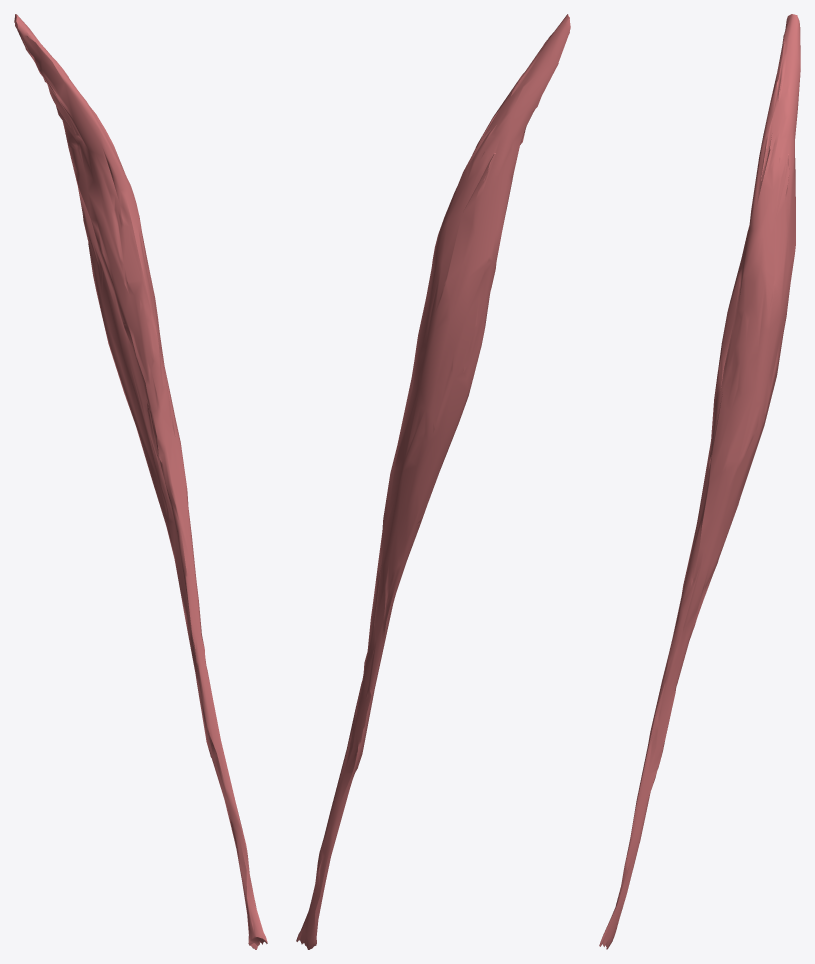
3 renders of one model, left to right at view 1: azimuth 30°, elevation 25°; view 2: azimuth 210°, elevation 25°; view 3: azimuth 270°, elevation 25°, orthographic. The views are drawn at different scales.
Visible parts, largest first — view 1: FJ1490M; view 2: FJ1490M; view 3: FJ1490M.
Boxes of the visible parts, x1,y1,x2,y2 form: FJ1490M: (14,14,267,949); FJ1490M: (296,14,570,949); FJ1490M: (599,14,800,949).
Size of the model in its own units: 0.0575 by 0.3208 by 0.0674.
